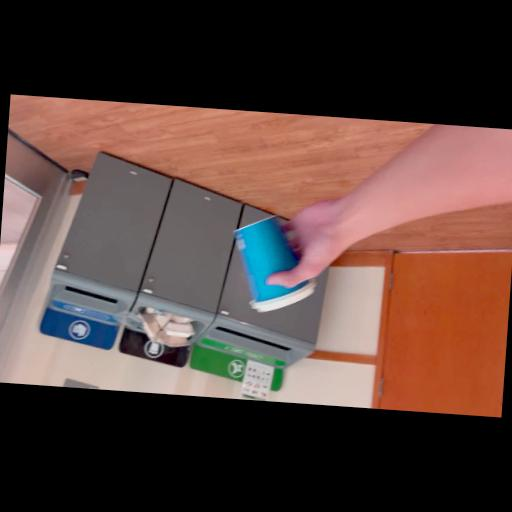lp_paper_cup: (230, 214, 321, 318)
